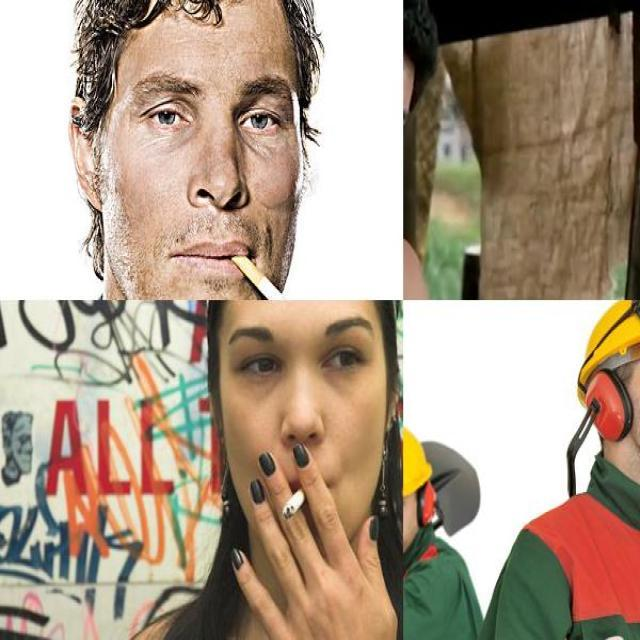smoking: (230, 249, 315, 299), (282, 486, 307, 520)
